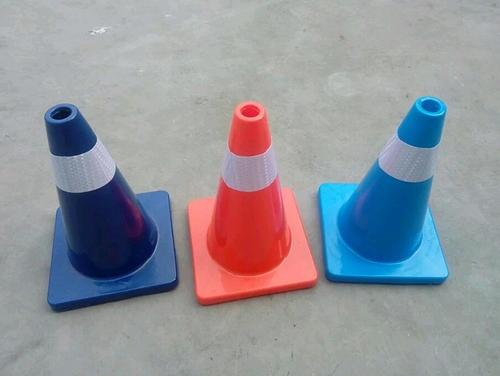cone_barrel: (329, 95, 456, 278), (35, 97, 157, 277), (197, 100, 308, 288)
